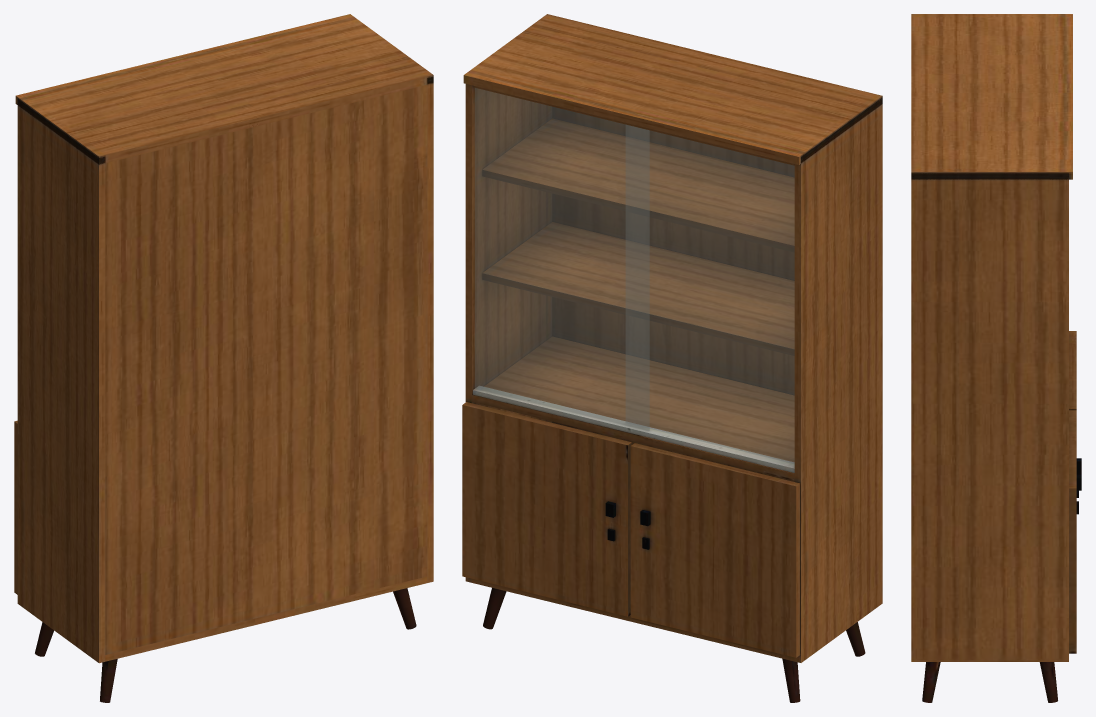
File: sideboard_tall_web.glb
3 views of the same model, side by side, from view 1: azimuth 30°, elevation 25°; view 2: azimuth 150°, elevation 25°; view 3: azimuth 270°, elevation 25° (orthographic). The views are drawn at different scales.
Parts seen in each view (by area): view 1: SideboardTall_Body, Door_R_Mesh; view 2: SideboardTall_Body, Glass_A, Glass_B, Door_R_Mesh, Door_L_Mesh; view 3: SideboardTall_Body, Door_L_Mesh, Door_R_Mesh.
Part boxes in pixels (<box>): SideboardTall_Body: <box>15,14,433,702</box>; Door_R_Mesh: <box>14,420,17,594</box>; SideboardTall_Body: <box>463,14,882,702</box>; Glass_A: <box>475,88,649,430</box>; Glass_B: <box>626,125,794,463</box>; Door_R_Mesh: <box>630,443,800,657</box>; Door_L_Mesh: <box>462,402,631,616</box>; SideboardTall_Body: <box>911,14,1072,702</box>; Door_L_Mesh: <box>1069,410,1081,653</box>; Door_R_Mesh: <box>1069,331,1081,497</box>.
Bounding box in the file's own units: 0.95 × 1.51 × 0.432.
2 materials, 1 textured.
